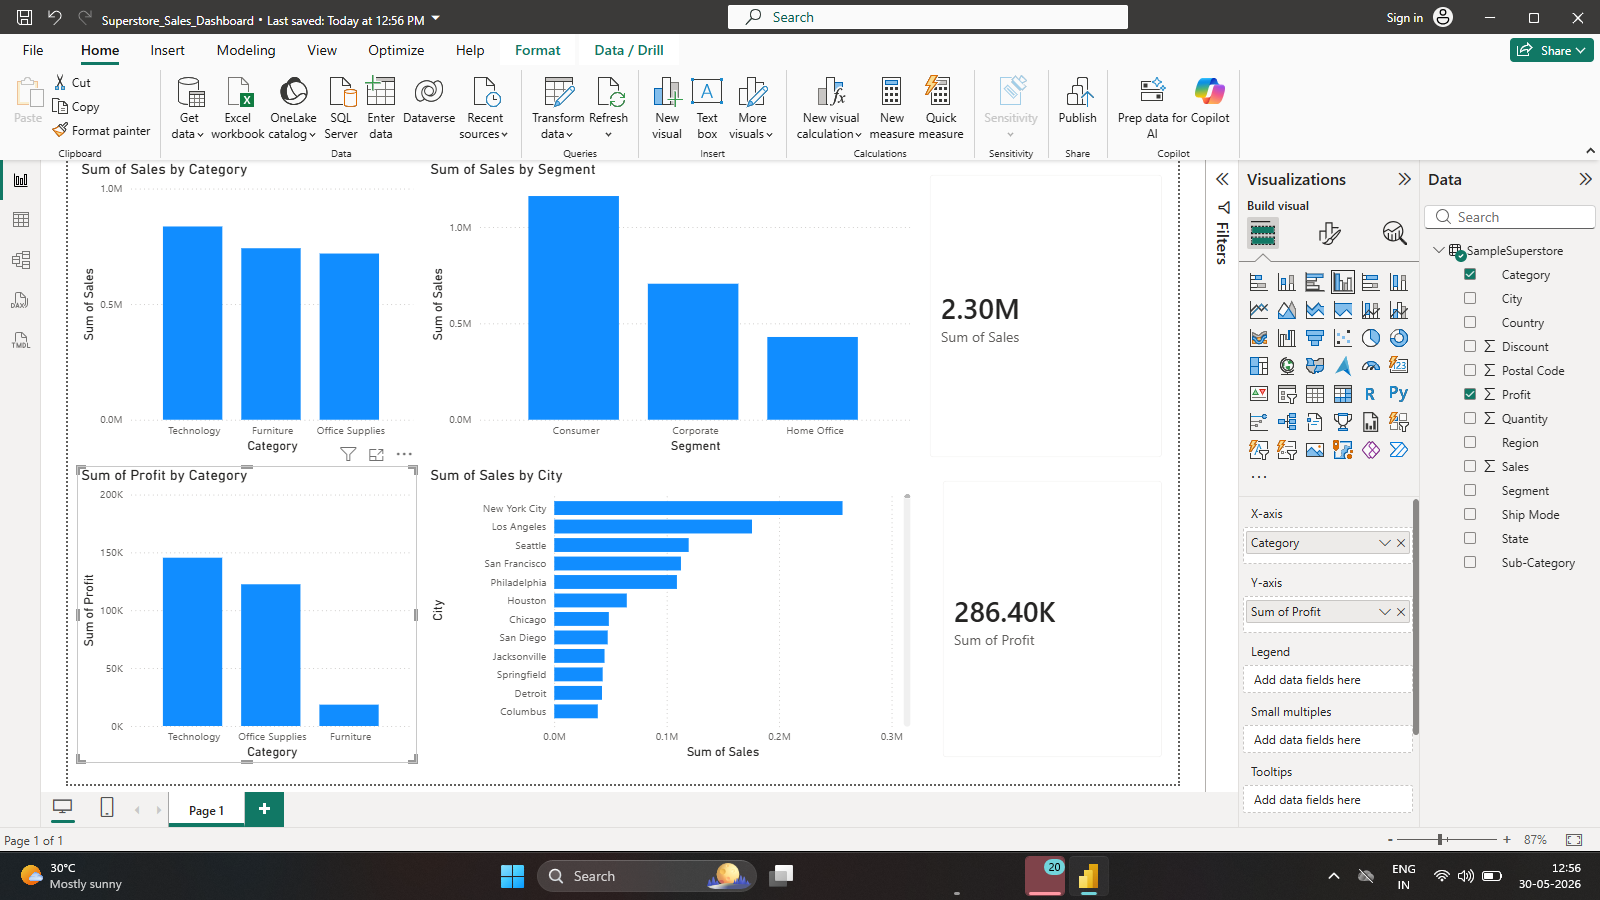

This screenshot's page, from the dashboard's own definition file:
{"tool":"powerbi","page":{"name":"Page 1","canvas":[1280,720],"ordinal":0},"visuals":[{"type":"clusteredColumnChart","fields":{"Category":["SampleSuperstore.Category"],"Y":["Sum(SampleSuperstore.Sales)"]},"box":[10.4,0,393.5,342.7],"z":0},{"type":"clusteredColumnChart","fields":{"Category":["SampleSuperstore.Category"],"Y":["Sum(SampleSuperstore.Profit)"]},"box":[10,353,393,343],"z":1},{"type":"clusteredColumnChart","fields":{"Category":["SampleSuperstore.Segment"],"Y":["Sum(SampleSuperstore.Sales)"]},"box":[413.1,0,564.2,342.7],"z":2},{"type":"clusteredBarChart","fields":{"Category":["SampleSuperstore.City"],"Y":["Sum(SampleSuperstore.Sales)"]},"box":[413.1,353.1,564.2,342.7],"z":3},{"type":"cardVisual","fields":{"Data":["Sum(SampleSuperstore.Sales)"]},"box":[977.3,0,302.3,360],"z":4},{"type":"cardVisual","fields":{"Data":["Sum(SampleSuperstore.Profit)"]},"box":[992.3,353.1,287.3,353.1],"z":5}]}

Visuals, with their boxes on the page's 1280x720 design canvas (x1, y1, x2, y2). These are canvas units, not pixel positions in the 1600x900 screenshot, which may show the page scaled, cropped or inside an application window:
clusteredColumnChart - SampleSuperstore.Category x Sum(SampleSuperstore.Sales): x1=10 y1=0 x2=404 y2=343
clusteredColumnChart - SampleSuperstore.Category x Sum(SampleSuperstore.Profit): x1=10 y1=353 x2=403 y2=696
clusteredColumnChart - SampleSuperstore.Segment x Sum(SampleSuperstore.Sales): x1=413 y1=0 x2=977 y2=343
clusteredBarChart - SampleSuperstore.City x Sum(SampleSuperstore.Sales): x1=413 y1=353 x2=977 y2=696
cardVisual - Sum(SampleSuperstore.Sales): x1=977 y1=0 x2=1280 y2=360
cardVisual - Sum(SampleSuperstore.Profit): x1=992 y1=353 x2=1280 y2=706
